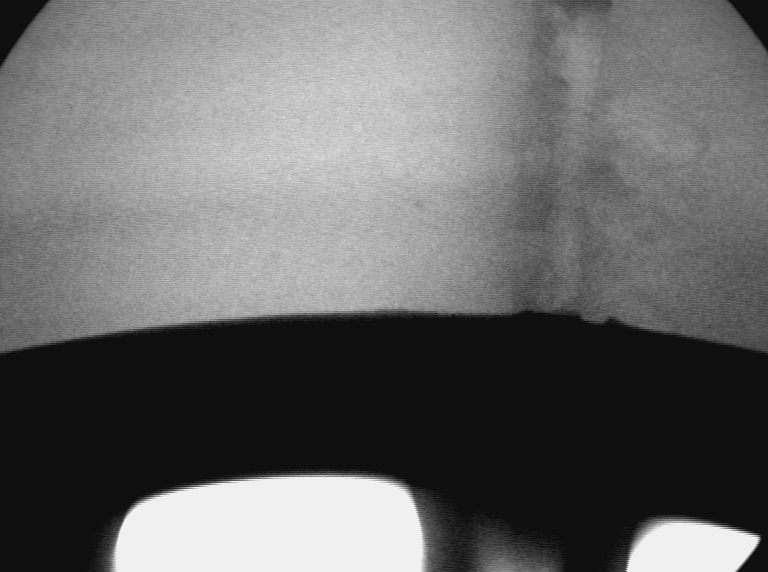defect: (601, 88, 704, 190)
